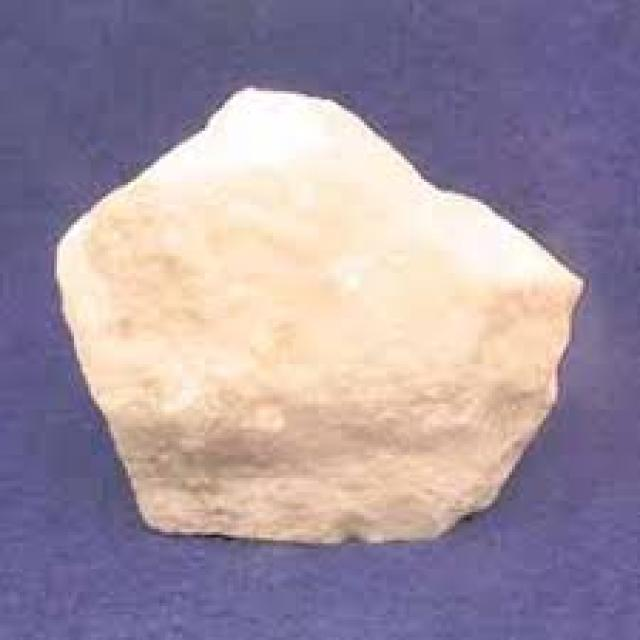Metamorphic: (34, 91, 597, 546)
